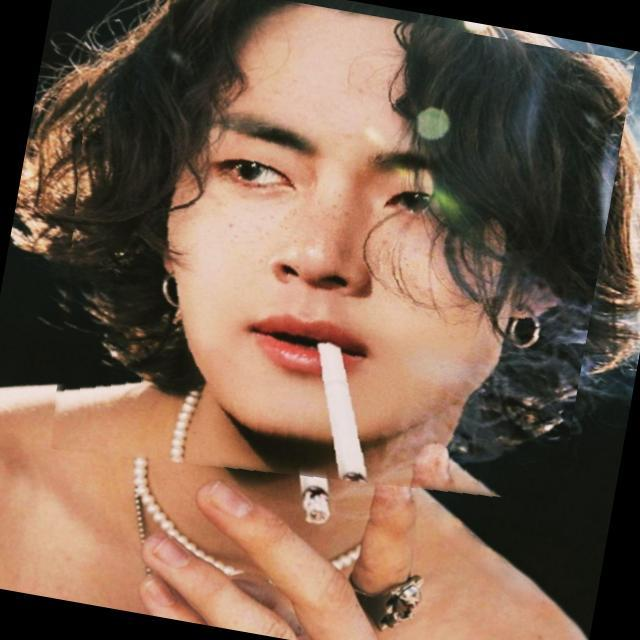cigarette: (242, 326, 378, 552)
